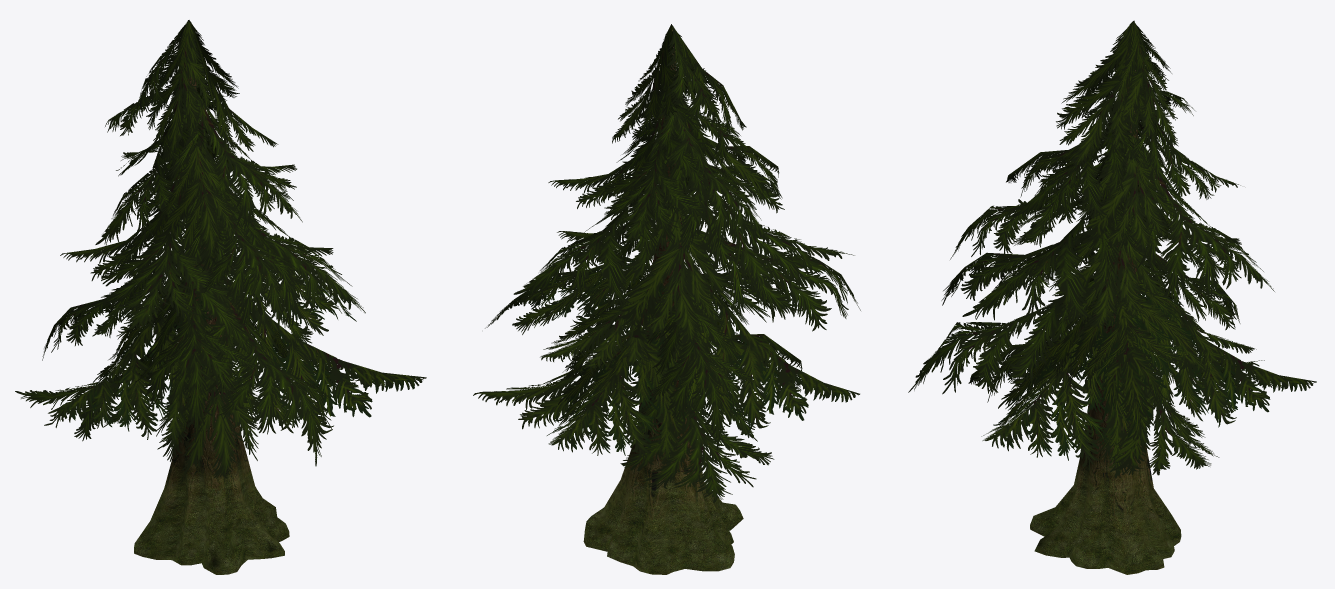
Rendered from spruce_01.fbx.
3 renders of one model, left to right at view 1: azimuth 30°, elevation 25°; view 2: azimuth 150°, elevation 25°; view 3: azimuth 270°, elevation 25°, orthographic. The views are drawn at different scales.
Parts seen in each view (by area): view 1: Spruce_1_LOD0; view 2: Spruce_1_LOD0; view 3: Spruce_1_LOD0.
Boxes of the visible parts, box(x1,y1,x2,y2) form: Spruce_1_LOD0: box(15, 20, 426, 574); Spruce_1_LOD0: box(473, 24, 860, 574); Spruce_1_LOD0: box(908, 20, 1316, 574).
Size of what is drawn, in the model's own units: 4.26 by 6.17 by 4.44.
